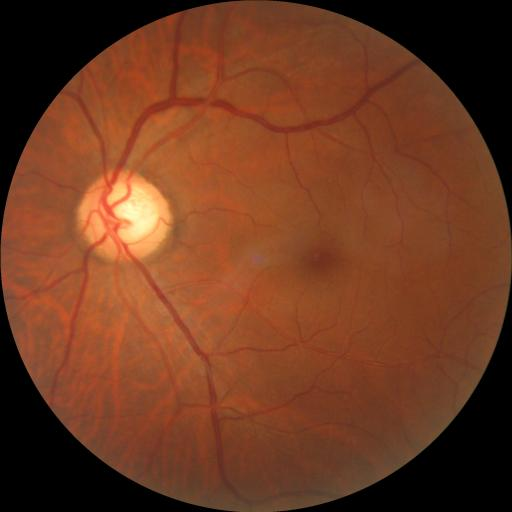Optic Cup: (105, 185, 159, 242)
Optic Disc: (78, 169, 174, 261)
